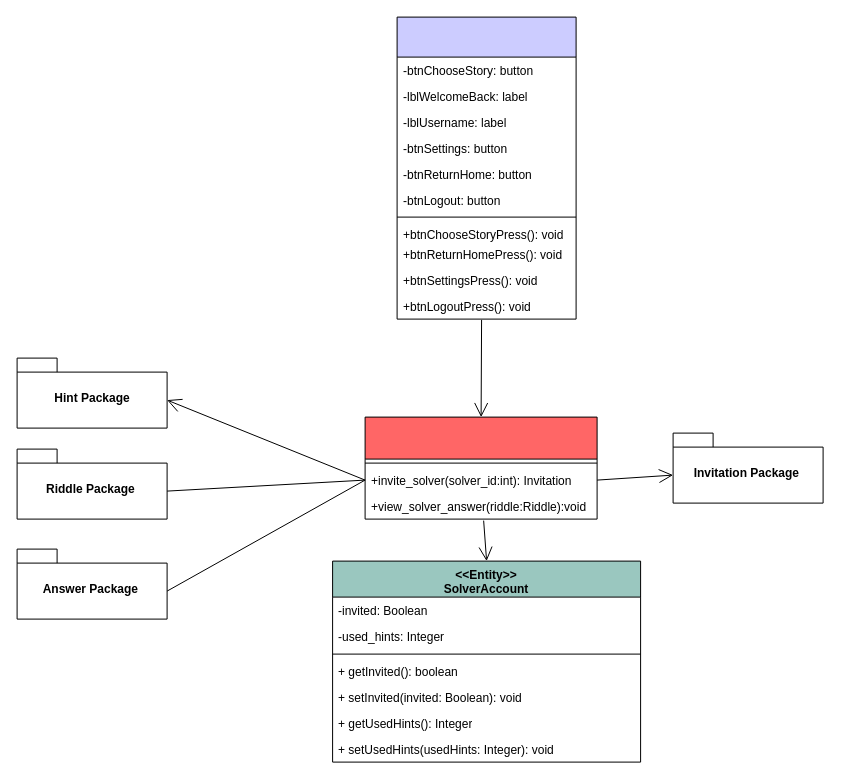
Image size: 841x783. Some labels were removed from this diagram. The shapes that lost their labels are listed below. From the top down, each one's box as (x1, y1, x2, y2) in pixels, then its label:
(396, 16, 576, 319): <<Boundary>> HomepageUI
(364, 416, 597, 519): <<Controller>> SolverAccountController
